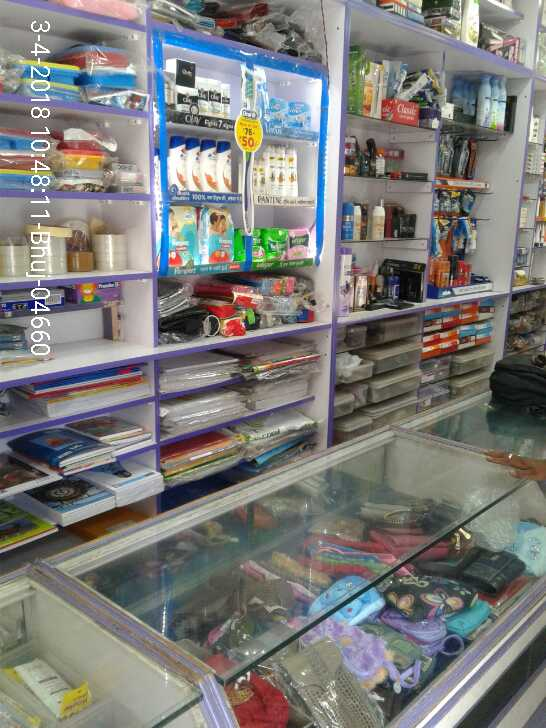venus: (290, 101, 312, 127), (271, 99, 289, 124)
